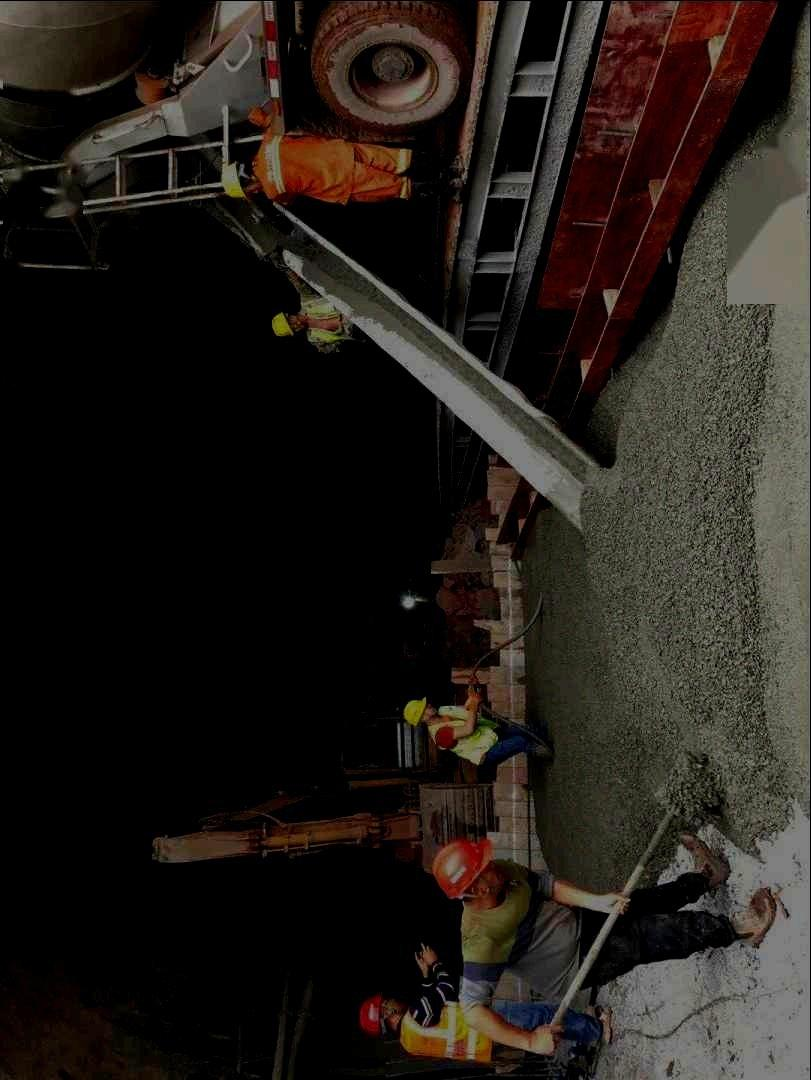helmet: (430, 837, 504, 904), (358, 993, 405, 1037), (221, 161, 265, 202), (403, 697, 438, 727), (271, 312, 307, 337)
